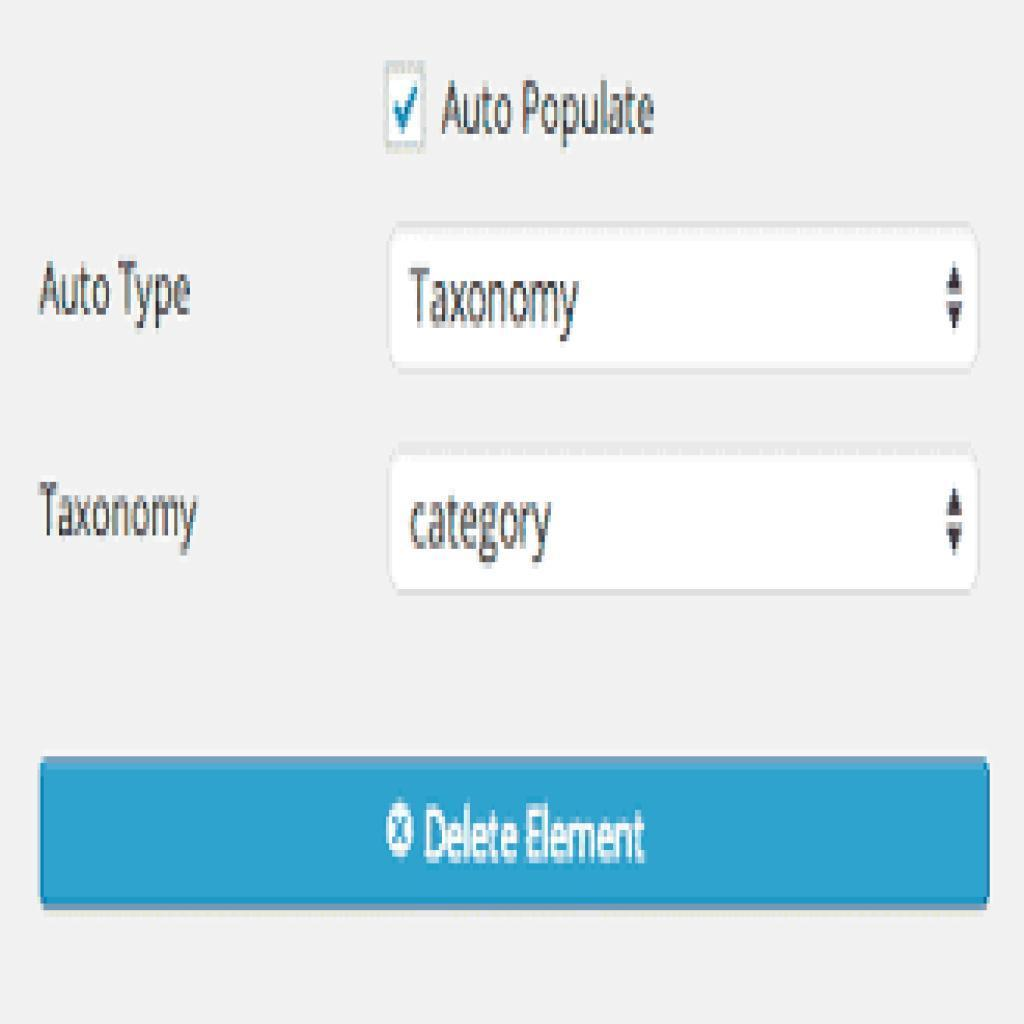button: (41, 756, 990, 906)
checkbox: (385, 63, 427, 152)
dropdown: (390, 221, 976, 372), (390, 446, 980, 595)
